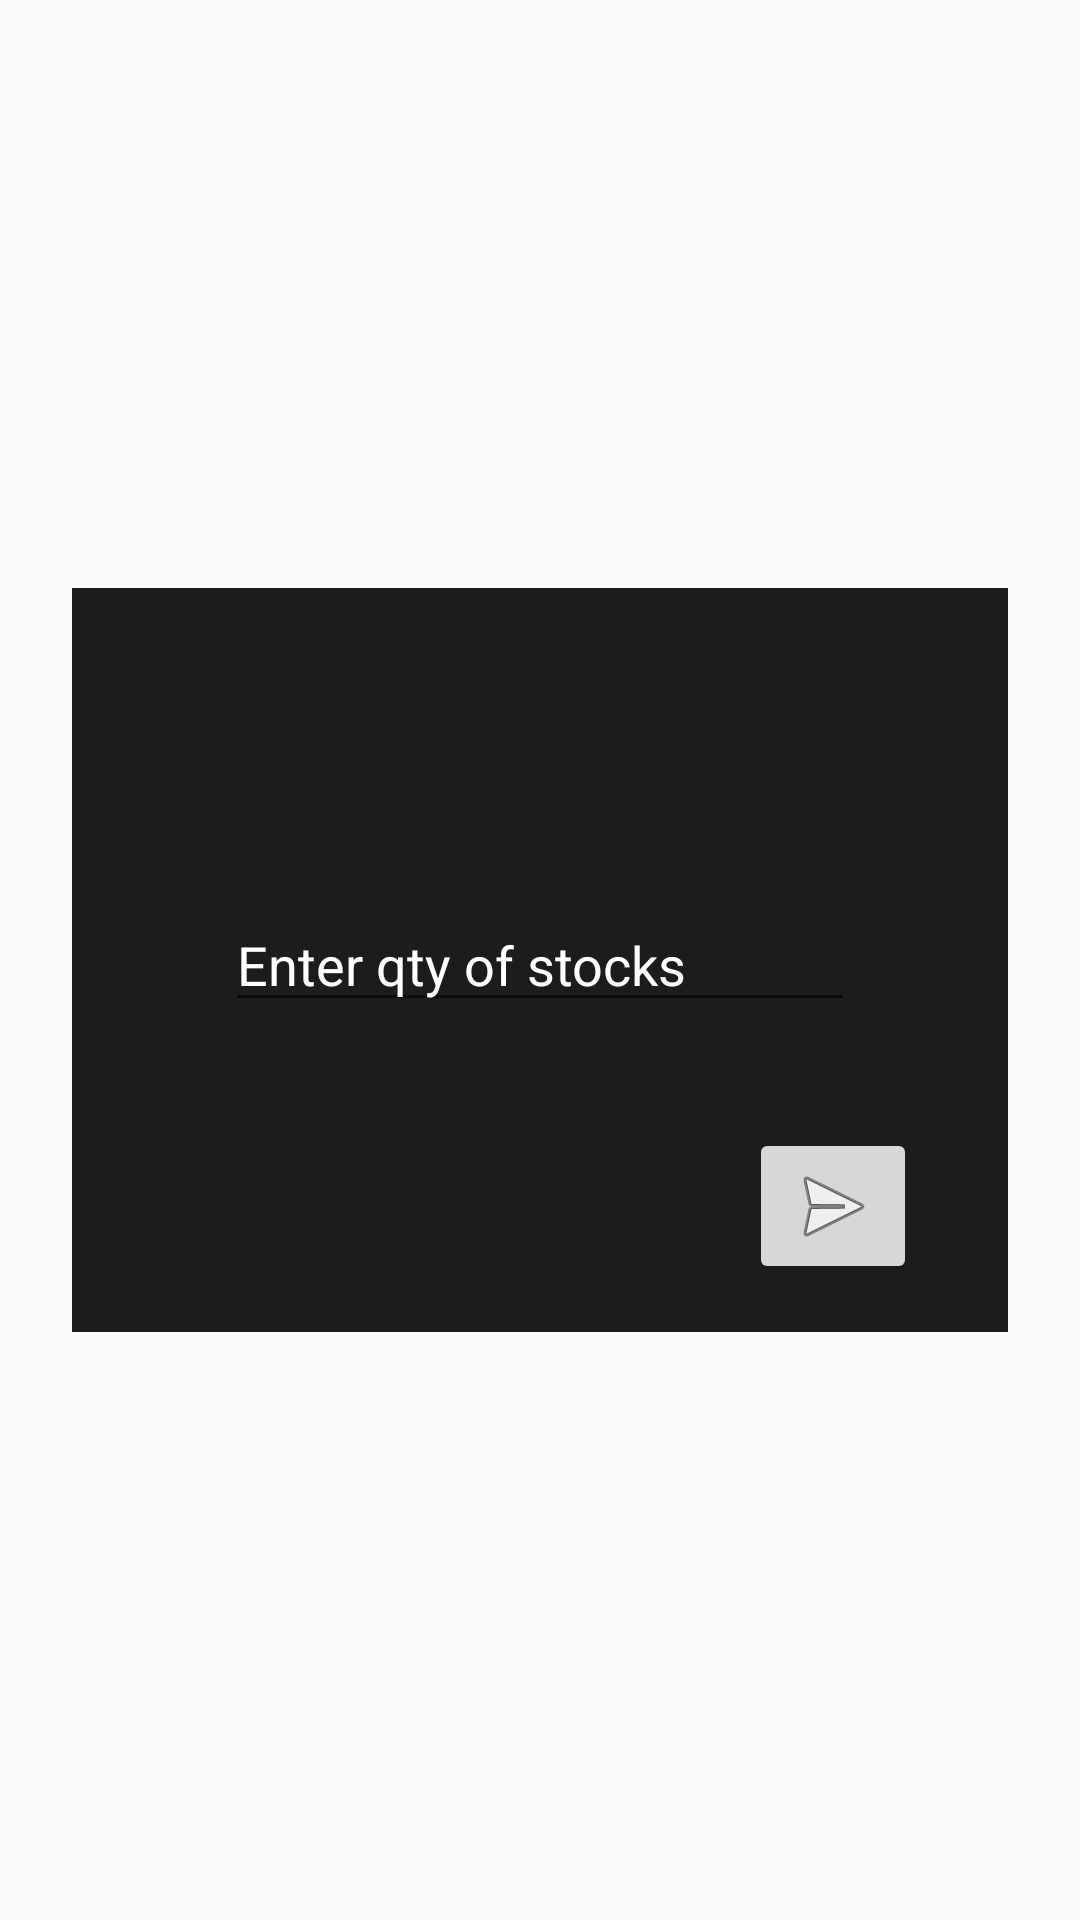

Icons on this 1080*1920 Android screen, each with the point to tap as (x,y):
send: (833,1206)
